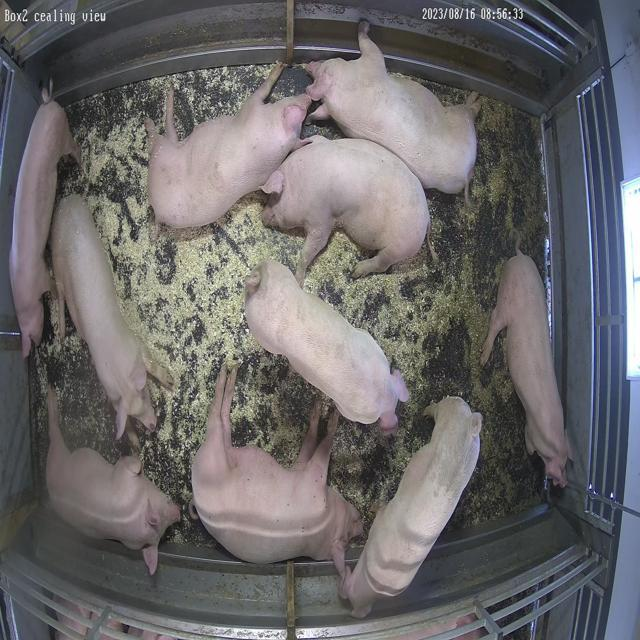Dirt: (420, 97, 549, 529)
Pig: (192, 366, 363, 572), (306, 21, 481, 200), (342, 397, 483, 618), (246, 261, 409, 432), (145, 64, 311, 228), (50, 195, 156, 440), (45, 387, 180, 576), (263, 136, 431, 284), (482, 250, 571, 488), (9, 89, 79, 358)
